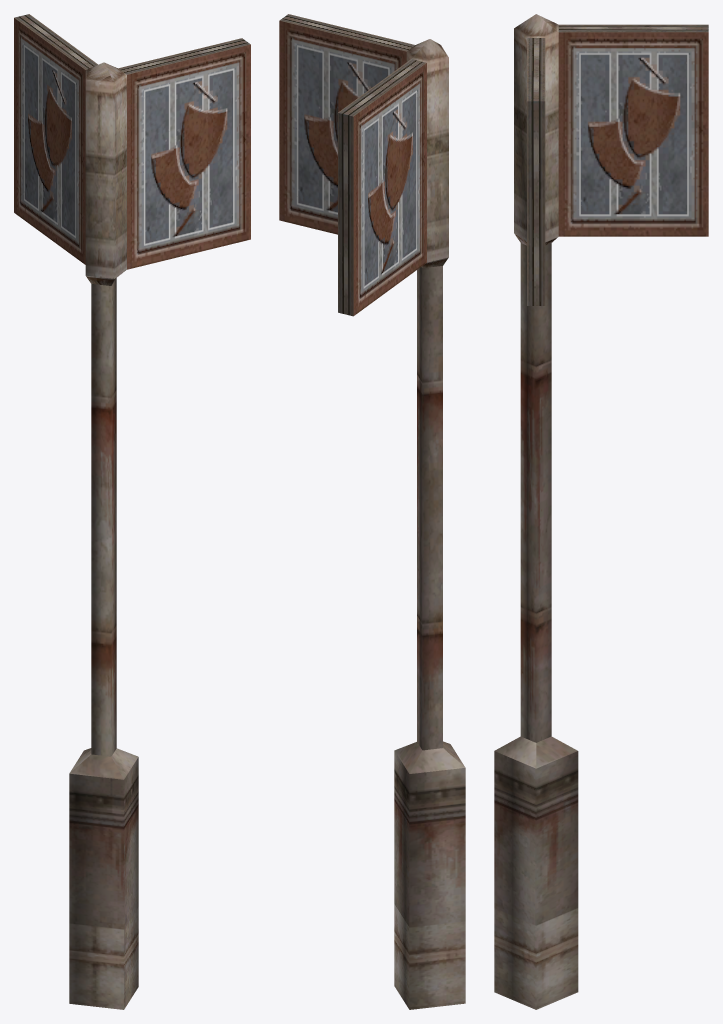
The model's file is thm_sign_tato_standing_l1.fbx.
The picture shows the model from 3 angles, left to right: view 1: azimuth 30°, elevation 25°; view 2: azimuth 150°, elevation 25°; view 3: azimuth 270°, elevation 25°; orthographic projection. The views are drawn at different scales.
Parts seen in each view (by area): view 1: mesh_node; view 2: mesh_node; view 3: mesh_node.
Part boxes in pixels (x1=…): mesh_node: x1=14, y1=14, x2=250, y2=1009; mesh_node: x1=279, y1=14, x2=465, y2=1009; mesh_node: x1=494, y1=14, x2=708, y2=1009.
Size of the model in its own units: 1.07 by 5.38 by 1.07.
2 materials, 2 textured.
